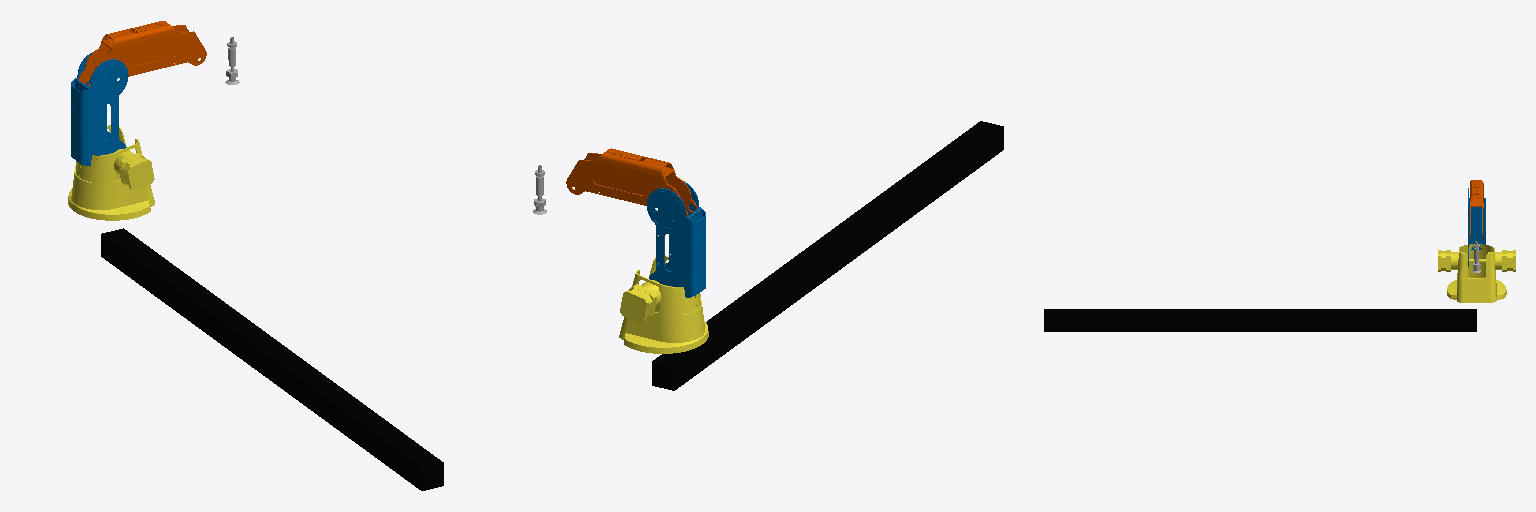
The robot description file, URDF, robot "scenario":
<?xml version="1.0" encoding="utf-8"?>
<!-- =================================================================================== -->
<!-- |    This document was autogenerated by xacro from /root/catkin_ws/src/dobot_description/urdf/scenario.xacro | -->
<!-- |    EDITING THIS FILE BY HAND IS NOT RECOMMENDED                                 | -->
<!-- =================================================================================== -->
<robot name="scenario">
  <!-- Created on: Mai, 2019 Author: [author] -->
  <!-- Defining usefull macros -->
  <!-- Created on: Mai, 2019 Author: [author] -->
  <gazebo>
    <plugin filename="libgazebo_ros_control.so" name="gazebo_ros_control_Dobot_Rail">
      <robotNamespace>Dobot_Rail</robotNamespace>
      <robotParam>robot_description</robotParam>
    </plugin>
    <plugin filename="libdobotSim.so" name="dobotSim_Dobot_Rail">
      <robotNamespace>Dobot_Rail</robotNamespace>
    </plugin>
  </gazebo>
  <link name="world"/>
  <joint name="Dobot_Rail_fixed" type="fixed">
    <parent link="world"/>
    <child link="Dobot_Rail_Rail"/>
    <origin rpy="0.0 0.0 0.0" xyz="0.0 0.0 0.05"/>
  </joint>
  <link name="Dobot_Rail_Rail">
    <inertial>
      <origin rpy="0 0 0" xyz="0 -0.5 -0.02"/>
      <mass value="4.7"/>
      <inertia ixx="0.392293333333" ixy="0" ixz="0" iyy="0.00125333333333" iyz="0" izz="0.392293333333"/>
    </inertial>
    <visual name="base_vis">
      <origin rpy="0 0 0" xyz="0 0 0"/>
      <geometry>
        <mesh filename="package://dobot_description/meshes/rail.dae" scale="1 1 1"/>
      </geometry>
    </visual>
    <collision name="tool_col">
      <origin rpy="0 0 0" xyz="0 -0.5 -0.02"/>
      <geometry>
        <box size="0.04 1.0 0.04"/>
      </geometry>
    </collision>
  </link>
  <joint name="Dobot_Rail_rail_joint" type="prismatic">
    <parent link="Dobot_Rail_Rail"/>
    <child link="Dobot_Rail"/>
    <origin rpy="0 0 0" xyz="0.0 0.0 0.05"/>
    <axis xyz="0 1 0"/>
    <dynamics damping="1.0" friction="10.0"/>
    <limit effort="5000.0" lower="-1.0" upper="0.001" velocity="1.0"/>
  </joint>
  <gazebo reference="Dobot_Rail_rail_joint">
    <implicitSpringDamper>True</implicitSpringDamper>
  </gazebo>
  <transmission name="Dobot_Rail_rail_transmission">
    <type>transmission_interface/SimpleTransmission</type>
    <joint name="Dobot_Rail_rail_joint">
      <hardwareInterface>hardware_interface/EffortJointInterface</hardwareInterface>
    </joint>
    <actuator name="Dobot_Rail_rail_motor">
      <hardwareInterface>hardware_interface/EffortJointInterface</hardwareInterface>
      <mechanicalReduction>1</mechanicalReduction>
    </actuator>
  </transmission>
  <link name="Dobot_Rail">
    <inertial>
      <origin rpy="0 0 0" xyz="0 0 0.0"/>
      <mass value="1.0"/>
      <inertia ixx="0.00346666666667" ixy="0" ixz="0" iyy="0.00346666666667" iyz="0" izz="0.00666666666667"/>
    </inertial>
    <visual name="stand_vis">
      <origin rpy="0 -0.0 0" xyz="0 0 0"/>
      <geometry>
        <mesh filename="package://dobot_description/meshes/stand.dae" scale="1 1 1"/>
      </geometry>
    </visual>
    <collision name="stand_col">
      <origin rpy="0 0 0" xyz="0 0 -0.02"/>
      <geometry>
        <box size="0.16 0.16 0.04"/>
      </geometry>
    </collision>
  </link>
  <link name="Dobot_Rail_base_link">
    <inertial>
      <origin rpy="0 0 0" xyz="0 0 0.055"/>
      <mass value="0.75"/>
      <inertia ixx="0.000703125" ixy="0" ixz="0" iyy="0.000703125" iyz="0" izz="0.000703125"/>
    </inertial>
    <visual name="base_vis">
      <origin rpy="0 -0.0 0" xyz="0 0 0"/>
      <geometry>
        <mesh filename="package://dobot_description/meshes/base.dae" scale="1 1 1"/>
      </geometry>
    </visual>
    <collision name="base_vis">
      <origin rpy="0 0 0" xyz="0 0 0.055"/>
      <geometry>
        <cylinder length="0.11" radius="0.045"/>
      </geometry>
    </collision>
  </link>
  <joint name="Dobot_Rail_base_joint" type="revolute">
    <parent link="Dobot_Rail"/>
    <child link="Dobot_Rail_base_link"/>
    <origin rpy="0.0 0.0 0.0" xyz="0.0 0.0 0.0"/>
    <axis xyz="0 0 1"/>
    <dynamics damping="1.0" friction="1.0"/>
    <limit effort="50.0" lower="-3.0" upper="3.0" velocity="3.1415"/>
  </joint>
  <gazebo reference="Dobot_Rail_base_joint">
    <implicitSpringDamper>True</implicitSpringDamper>
  </gazebo>
  <transmission name="Dobot_Rail_base_transmission">
    <type>transmission_interface/SimpleTransmission</type>
    <joint name="Dobot_Rail_base_joint">
      <hardwareInterface>hardware_interface/EffortJointInterface</hardwareInterface>
    </joint>
    <actuator name="Dobot_Rail_base_motor">
      <hardwareInterface>hardware_interface/EffortJointInterface</hardwareInterface>
      <mechanicalReduction>1</mechanicalReduction>
    </actuator>
  </transmission>
  <link name="Dobot_Rail_shoulder_link">
    <inertial>
      <origin rpy="0 0 0" xyz="-0.03 0 0.08"/>
      <mass value="0.3"/>
      <inertia ixx="0.0006025" ixy="0" ixz="0" iyy="0.0007225" iyz="0" izz="0.0002"/>
    </inertial>
    <visual name="shoulder_vis">
      <origin rpy="0 -0.0 0" xyz="0 0 0"/>
      <geometry>
        <mesh filename="package://dobot_description/meshes/shoulder.dae" scale="1 1 1"/>
      </geometry>
    </visual>
    <collision name="shoulder_col">
      <origin rpy="0 0 0" xyz="-0.03 0 0.08"/>
      <geometry>
        <box size="0.08 0.04 0.15"/>
      </geometry>
    </collision>
  </link>
  <joint name="Dobot_Rail_shoulder_joint" type="revolute">
    <parent link="Dobot_Rail_base_link"/>
    <child link="Dobot_Rail_shoulder_link"/>
    <origin rpy="0.0 0.0 0.0" xyz="0.0 0.0 0.082"/>
    <axis xyz="0 1 0"/>
    <dynamics damping="1.0" friction="1.0"/>
    <limit effort="5.0" lower="-3.0" upper="3.0" velocity="3.1415"/>
  </joint>
  <gazebo reference="Dobot_Rail_shoulder_joint">
    <implicitSpringDamper>True</implicitSpringDamper>
  </gazebo>
  <transmission name="Dobot_Rail_shoulder_transmission">
    <type>transmission_interface/SimpleTransmission</type>
    <joint name="Dobot_Rail_shoulder_joint">
      <hardwareInterface>hardware_interface/EffortJointInterface</hardwareInterface>
    </joint>
    <actuator name="Dobot_Rail_shoulder_motor">
      <hardwareInterface>hardware_interface/EffortJointInterface</hardwareInterface>
      <mechanicalReduction>1</mechanicalReduction>
    </actuator>
  </transmission>
  <link name="Dobot_Rail_elbow_link">
    <inertial>
      <origin rpy="0 0 0" xyz="0.07 0 0.02"/>
      <mass value="0.3"/>
      <inertia ixx="0.00013" ixy="0" ixz="0" iyy="0.0009925" iyz="0" izz="0.0009425"/>
    </inertial>
    <visual name="elbow_vis">
      <origin rpy="0 -0.0 0" xyz="0 0 0"/>
      <geometry>
        <mesh filename="package://dobot_description/meshes/elbow.dae" scale="1 1 1"/>
      </geometry>
    </visual>
    <collision name="elbow_col">
      <origin rpy="0 0 0" xyz="0.07 0 0.02"/>
      <geometry>
        <box size="0.19 0.04 0.06"/>
      </geometry>
    </collision>
  </link>
  <joint name="Dobot_Rail_elbow_joint" type="revolute">
    <parent link="Dobot_Rail_shoulder_link"/>
    <child link="Dobot_Rail_elbow_link"/>
    <origin rpy="0.0 0.0 0.0" xyz="0.0 0.0 0.135"/>
    <axis xyz="0 1 0"/>
    <dynamics damping="1.0" friction="1.0"/>
    <limit effort="50.0" lower="-3.0" upper="3.0" velocity="3.1415"/>
  </joint>
  <gazebo reference="Dobot_Rail_elbow_joint">
    <implicitSpringDamper>True</implicitSpringDamper>
  </gazebo>
  <transmission name="Dobot_Rail_elbow_transmission">
    <type>transmission_interface/SimpleTransmission</type>
    <joint name="Dobot_Rail_elbow_joint">
      <hardwareInterface>hardware_interface/EffortJointInterface</hardwareInterface>
    </joint>
    <actuator name="Dobot_Rail_elbow_motor">
      <hardwareInterface>hardware_interface/EffortJointInterface</hardwareInterface>
      <mechanicalReduction>1</mechanicalReduction>
    </actuator>
  </transmission>
  <link name="Dobot_Rail_hand_link">
    <inertial>
      <origin rpy="0 0 0" xyz="0.05 0 0.005"/>
      <mass value="0.2"/>
      <inertia ixx="4.83333333333e-05" ixy="0" ixz="0" iyy="0.000208333333333" iyz="0" izz="0.000173333333333"/>
    </inertial>
    <visual name="hand_vis">
      <origin rpy="0 0 0" xyz="0 0 0"/>
      <!-- ${-PI_2} -->
      <geometry>
        <mesh filename="package://dobot_description/meshes/hand.dae" scale="1 1 1"/>
      </geometry>
    </visual>
    <collision name="hand_col">
      <origin rpy="0 0 0" xyz="0.05 0 0.005"/>
      <geometry>
        <box size="0.1 0.02 0.05"/>
      </geometry>
    </collision>
  </link>
  <joint name="Dobot_Rail_hand_joint" type="revolute">
    <parent link="Dobot_Rail_elbow_link"/>
    <child link="Dobot_Rail_hand_link"/>
    <origin rpy="0.0 0 0.0" xyz="0.147 0.0 0.0"/>
    <!-- 0 ${PI_2} 0 -->
    <axis xyz="0 1 0"/>
    <dynamics damping="1.0" friction="1.0"/>
    <limit effort="50.0" lower="-3.0" upper="3.0" velocity="3.1415"/>
  </joint>
  <gazebo reference="Dobot_Rail_hand_joint">
    <implicitSpringDamper>True</implicitSpringDamper>
  </gazebo>
  <!-- 
\t\t<transmission name="${name}_hand_transmission">
\t\t\t<type>transmission_interface/SimpleTransmission</type>
\t\t\t<joint name="${name}_hand_joint">
\t\t\t\t<hardwareInterface>hardware_interface/VelocityJointInterface</hardwareInterface>
\t\t\t</joint>
\t\t\t<actuator name="${name}_hand_motor">
\t\t\t\t<hardwareInterface>hardware_interface/VelocityJointInterface</hardwareInterface>
\t\t\t\t<mechanicalReduction>1</mechanicalReduction>
\t\t\t</actuator>
\t\t</transmission> -->
  <link name="Dobot_Rail_tool_link">
    <inertial>
      <origin rpy="0 0 0" xyz="0 0 0.0"/>
      <mass value="0.1"/>
      <inertia ixx="2.13020833333e-05" ixy="0" ixz="0" iyy="2.13020833333e-05" iyz="0" izz="9.375e-07"/>
    </inertial>
    <visual name="base_vis">
      <origin rpy="0 -0.0 0" xyz="0 0 0"/>
      <geometry>
        <mesh filename="package://dobot_description/meshes/suctionTool.dae" scale="1 1 1"/>
      </geometry>
    </visual>
    <collision name="tool_col">
      <origin rpy="0 0 0" xyz="0 0 -0.01"/>
      <geometry>
        <cylinder length="0.04" radius="0.0075"/>
      </geometry>
    </collision>
  </link>
  <joint name="Dobot_Rail_tool_joint" type="revolute">
    <parent link="Dobot_Rail_hand_link"/>
    <child link="Dobot_Rail_tool_link"/>
    <origin rpy="0 0 0" xyz="0.069 0.0 0.0"/>
    <axis xyz="0 0 1"/>
    <dynamics damping="1.0" friction="1.0"/>
    <limit effort="5.0" lower="-3.0" upper="3.0" velocity="3.1415"/>
  </joint>
  <gazebo reference="Dobot_Rail_tool_joint">
    <implicitSpringDamper>True</implicitSpringDamper>
  </gazebo>
  <transmission name="Dobot_Rail_tool_transmission">
    <type>transmission_interface/SimpleTransmission</type>
    <joint name="Dobot_Rail_tool_joint">
      <hardwareInterface>hardware_interface/EffortJointInterface</hardwareInterface>
    </joint>
    <actuator name="Dobot_Rail_tool_motor">
      <hardwareInterface>hardware_interface/EffortJointInterface</hardwareInterface>
      <mechanicalReduction>1</mechanicalReduction>
    </actuator>
  </transmission>
  <link name="Dobot_Rail_gripper_link">
    <inertial>
      <origin rpy="0 0 0" xyz="0 0 -0.035"/>
      <mass value="0.1"/>
      <inertia ixx="4.41666666667e-05" ixy="0" ixz="0" iyy="4.41666666667e-05" iyz="0" izz="6.66666666667e-06"/>
    </inertial>
    <visual name="base_vis">
      <origin rpy="0 -0.0 0" xyz="0 0 -0.00125"/>
      <geometry>
        <mesh filename="package://dobot_description/meshes/suction.dae" scale="1 1 1"/>
      </geometry>
    </visual>
    <collision name="tool_col">
      <origin rpy="0 0 0" xyz="0 0 -0.045"/>
      <geometry>
        <cylinder length="0.03" radius="0.01"/>
      </geometry>
    </collision>
    <collision name="suction_col">
      <origin rpy="0 0 0" xyz="0 0 -0.061"/>
      <geometry>
        <cylinder length="0.001" radius="0.0125"/>
      </geometry>
    </collision>
  </link>
  <joint name="Dobot_Rail_gripper_joint" type="prismatic">
    <parent link="Dobot_Rail_tool_link"/>
    <child link="Dobot_Rail_gripper_link"/>
    <origin rpy="0 0 0" xyz="0.0 0.0 0.0"/>
    <axis xyz="0 0 1"/>
    <dynamics damping="1.0" friction="1.0"/>
    <limit effort="10.0" lower="-0.001" upper="0.01" velocity="0.5"/>
  </joint>
  <gazebo reference="Dobot_Rail_gripper_joint">
    <implicitSpringDamper>True</implicitSpringDamper>
  </gazebo>
</robot>

--- What the picture shows (computed from the rendered views, not written in the file) ---
Views: 3 orthographic renders of the robot side by side, from view 1: azimuth 30°, elevation 25°; view 2: azimuth 150°, elevation 25°; view 3: azimuth 270°, elevation 25°.
Robot: scenario — 9 links, 8 joints (5 revolute, 2 prismatic, 1 fixed); root link world; default pose: every joint at zero.
Visible links, largest first — view 1: Dobot_Rail_Rail, Dobot_Rail_base_link, Dobot_Rail_shoulder_link, Dobot_Rail_elbow_link; view 2: Dobot_Rail_Rail, Dobot_Rail_base_link, Dobot_Rail_shoulder_link, Dobot_Rail_elbow_link; view 3: Dobot_Rail_Rail, Dobot_Rail_base_link, Dobot_Rail_shoulder_link.
Link boxes in pixels (bbox=[...]): Dobot_Rail_Rail: bbox=[101, 228, 443, 490]; Dobot_Rail_base_link: bbox=[68, 125, 154, 220]; Dobot_Rail_shoulder_link: bbox=[71, 52, 128, 165]; Dobot_Rail_elbow_link: bbox=[79, 21, 206, 86]; Dobot_Rail_Rail: bbox=[652, 121, 1003, 390]; Dobot_Rail_base_link: bbox=[619, 255, 708, 353]; Dobot_Rail_shoulder_link: bbox=[647, 181, 705, 297]; Dobot_Rail_elbow_link: bbox=[566, 148, 697, 216]; Dobot_Rail_Rail: bbox=[1044, 309, 1476, 331]; Dobot_Rail_base_link: bbox=[1438, 244, 1515, 302]; Dobot_Rail_shoulder_link: bbox=[1468, 188, 1485, 266].
Bounding box of the posed robot: 0.2971 × 1.09 × 0.3763 m (x, y, z).
Meshes: 8 distinct files referenced, 5 mesh visuals loaded (5 Collada DAE); not drawn: 3 (reference not matched to a file when rendering).
